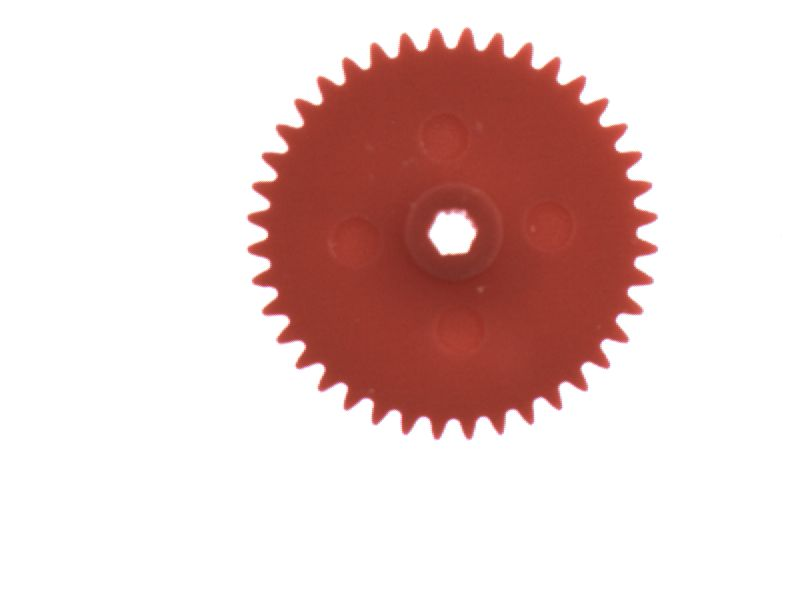good_product: (234, 24, 669, 448)
